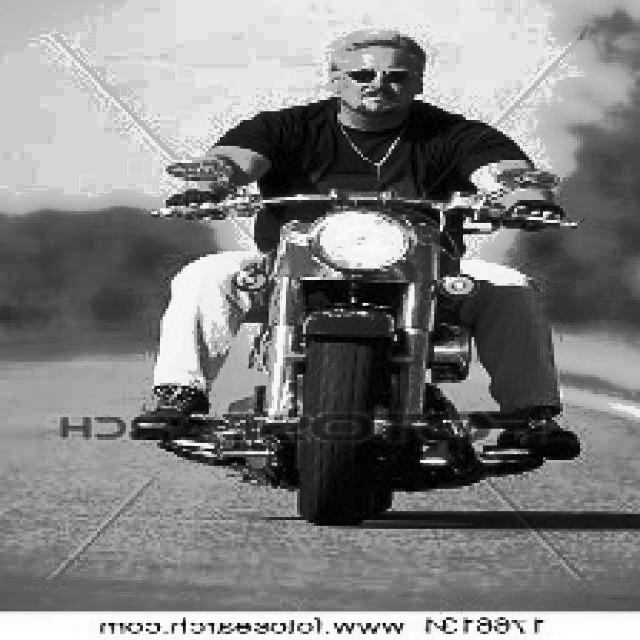Bike: (210, 182, 502, 506)
